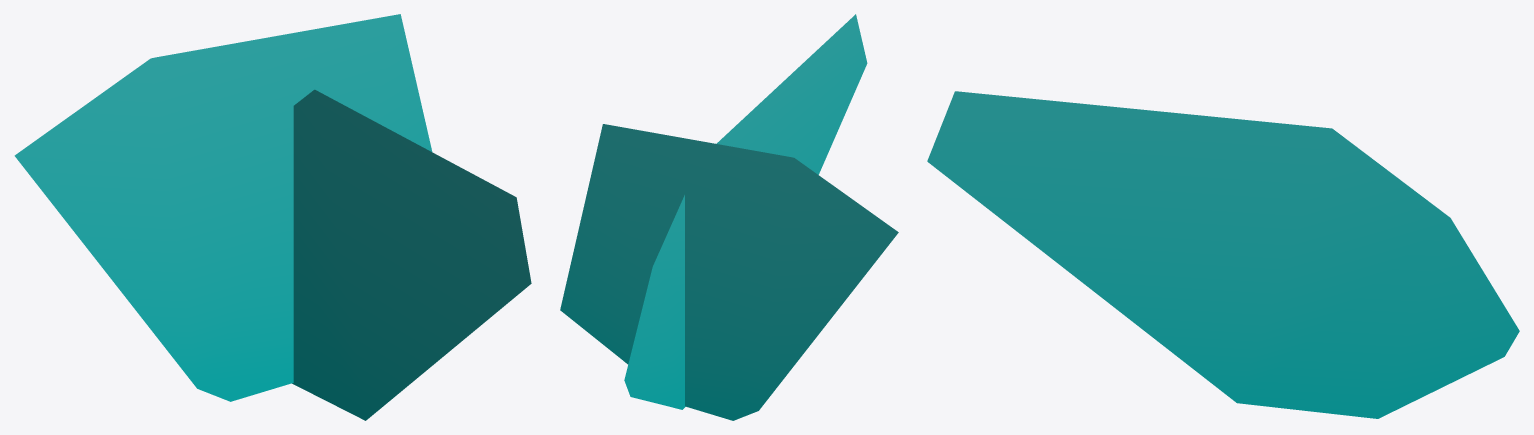
The model's file is Raspberry_wf0oefeja_High_wf0oefeja_VarH_LOD3.fbx.
The picture shows the model from 3 angles, left to right: view 1: azimuth 30°, elevation 25°; view 2: azimuth 150°, elevation 25°; view 3: azimuth 270°, elevation 25°; orthographic projection. The views are drawn at different scales.
Visible parts, largest first — view 1: _0w3a_VarH_LOD4; view 2: _0w3a_VarH_LOD4; view 3: _0w3a_VarH_LOD4.
Boxes of the visible parts, box(x1,y1,x2,y2) form: _0w3a_VarH_LOD4: box(14, 14, 531, 420); _0w3a_VarH_LOD4: box(560, 14, 898, 420); _0w3a_VarH_LOD4: box(927, 91, 1519, 418).
Size of the model in its own units: 65.83 by 51.64 by 81.82.
